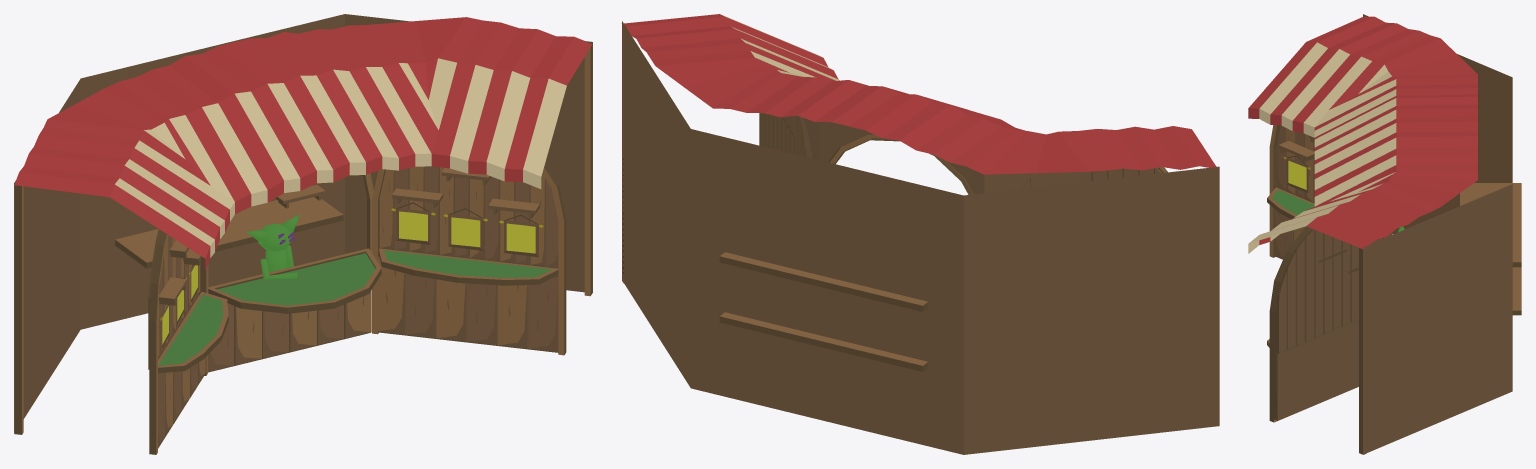
File: Shop.glb
3 views of the same model, side by side, from view 1: azimuth 30°, elevation 25°; view 2: azimuth 150°, elevation 25°; view 3: azimuth 270°, elevation 25° (orthographic). The views are drawn at different scales.
Visible parts, largest first — view 1: Cube, Sphere, item_chart.005, item_chart.004, item_chart.003; view 2: Cube; view 3: Cube, item_chart.002.
Part boxes in pixels (bbox=[...]): Cube: bbox=[14, 14, 592, 454]; Sphere: bbox=[258, 223, 295, 272]; item_chart.005: bbox=[506, 223, 535, 253]; item_chart.004: bbox=[451, 217, 480, 246]; item_chart.003: bbox=[399, 211, 427, 241]; Cube: bbox=[621, 14, 1219, 454]; Cube: bbox=[1248, 14, 1521, 454]; item_chart.002: bbox=[1288, 160, 1306, 189].
Bounding box in the file's own units: 5.88 × 2.64 × 2.91.
Materials: 4 (2 with a texture image).
